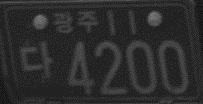0: (125, 37, 157, 94), (157, 39, 189, 95)
1: (105, 6, 117, 37), (126, 7, 139, 35)
2: (93, 39, 127, 95)
4: (66, 41, 96, 94)
광주_O: (51, 10, 99, 35)
다: (18, 41, 54, 80)
